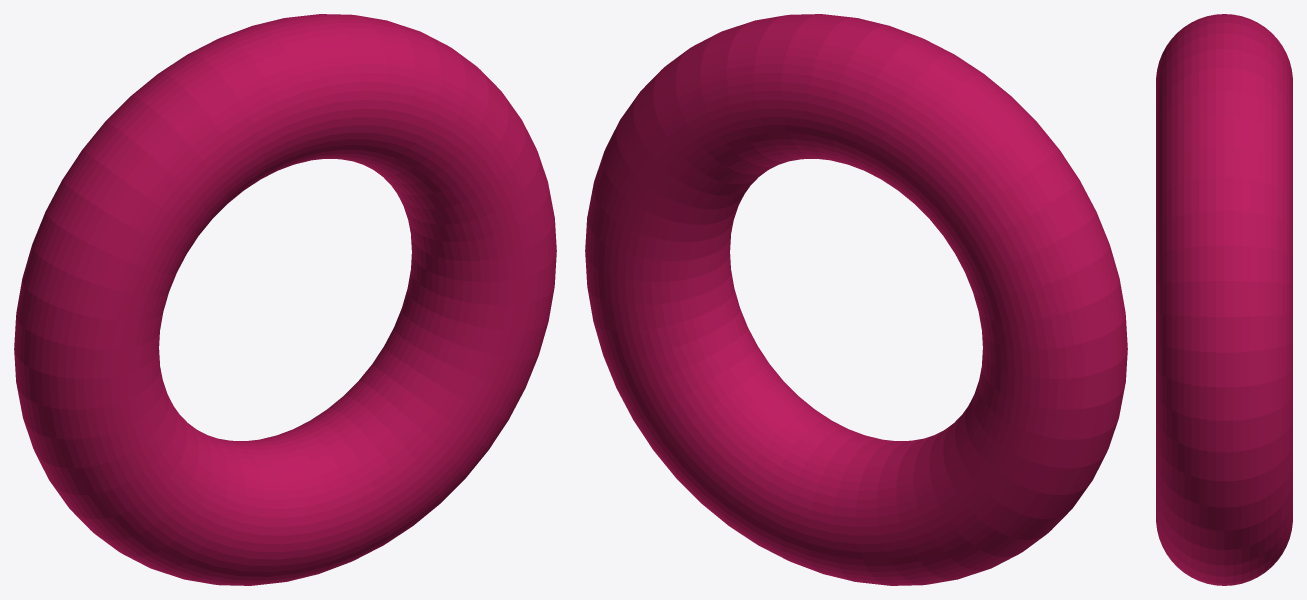
3 views of the same model, side by side, from view 1: azimuth 30°, elevation 25°; view 2: azimuth 150°, elevation 25°; view 3: azimuth 270°, elevation 25° (orthographic). The views are drawn at different scales.
Parts seen in each view (by area): view 1: world; view 2: world; view 3: world.
Part boxes in pixels (box(x1,y1,x2,y2)): world: box(14, 14, 556, 585); world: box(585, 14, 1127, 585); world: box(1156, 14, 1292, 585).
Bounding box in the file's own units: 39.47 × 39.39 × 9.45.
